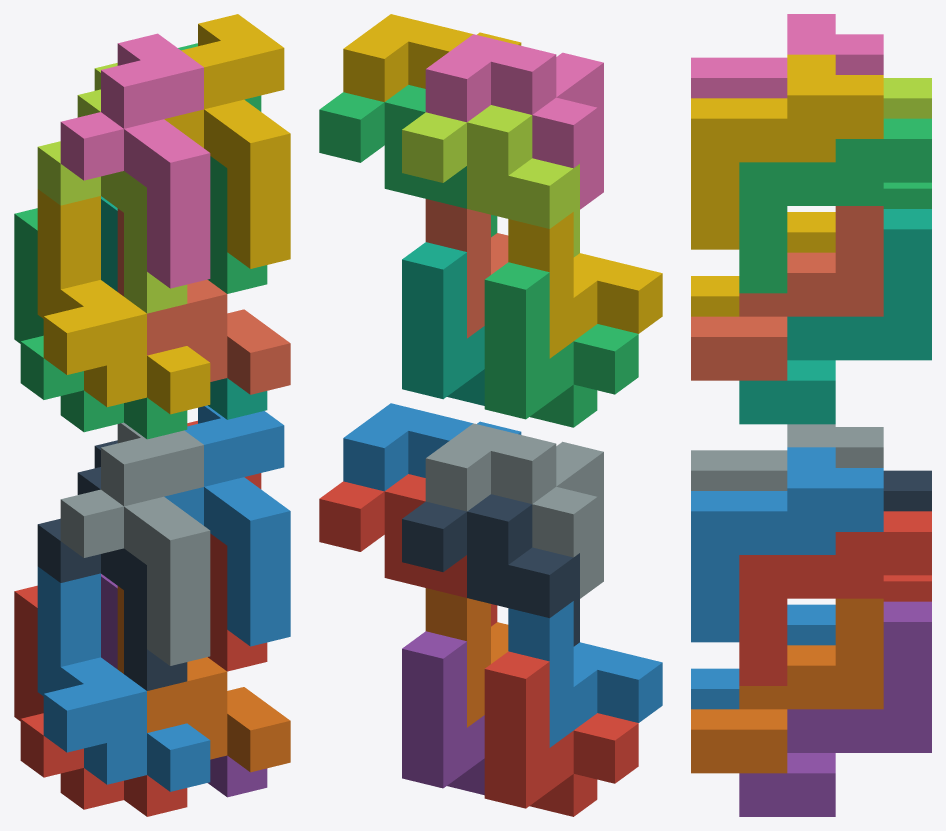
The model's file is tiling.obj.
The picture shows the model from 3 angles, left to right: view 1: azimuth 30°, elevation 25°; view 2: azimuth 150°, elevation 25°; view 3: azimuth 270°, elevation 25°; orthographic projection. The views are drawn at different scales.
Parts seen in each view (by area): view 1: copy_2_domain_4, copy_2_domain_2, copy_1_domain_2, copy_1_domain_4, copy_2_domain_8, copy_2_domain_6, copy_1_domain_8, copy_1_domain_6, copy_1_domain_1, copy_1_domain_3, copy_2_domain_1, copy_2_domain_3 (+4 smaller); view 2: copy_1_domain_1, copy_1_domain_3, copy_2_domain_2, copy_2_domain_4, copy_2_domain_1, copy_2_domain_3, copy_1_domain_2, copy_1_domain_4, copy_1_domain_5, copy_1_domain_7, copy_2_domain_5, copy_2_domain_7 (+4 smaller); view 3: copy_2_domain_8, copy_2_domain_6, copy_1_domain_7, copy_1_domain_5, copy_1_domain_6, copy_1_domain_8, copy_2_domain_7, copy_2_domain_5, copy_2_domain_4, copy_2_domain_2, copy_1_domain_2, copy_1_domain_4 (+4 smaller).
Part boxes in pixels (box(x1,y1,x2,y2)): copy_2_domain_4: box(60, 33, 210, 288); copy_2_domain_2: box(60, 422, 210, 665); copy_1_domain_2: box(37, 566, 210, 791); copy_1_domain_4: box(37, 189, 210, 414); copy_2_domain_8: box(164, 14, 290, 268); copy_2_domain_6: box(164, 405, 290, 646); copy_1_domain_8: box(117, 208, 290, 394); copy_1_domain_6: box(117, 586, 290, 772); copy_1_domain_1: box(14, 585, 187, 816); copy_1_domain_3: box(14, 208, 187, 439); copy_2_domain_1: box(37, 440, 187, 690); copy_2_domain_3: box(37, 63, 187, 313); copy_1_domain_1: box(484, 651, 638, 816); copy_1_domain_3: box(484, 262, 638, 427); copy_2_domain_2: box(425, 423, 603, 598); copy_2_domain_4: box(425, 34, 603, 209); copy_2_domain_1: box(402, 494, 579, 646); copy_2_domain_3: box(402, 105, 579, 257); copy_1_domain_2: box(508, 601, 662, 747); copy_1_domain_4: box(508, 212, 662, 358); copy_1_domain_5: box(402, 631, 484, 795); copy_1_domain_7: box(402, 242, 484, 405); copy_2_domain_5: box(319, 474, 497, 626); copy_2_domain_7: box(319, 85, 497, 237); copy_2_domain_8: box(691, 54, 883, 249); copy_2_domain_6: box(691, 447, 883, 642); copy_1_domain_7: box(739, 209, 931, 424); copy_1_domain_5: box(739, 601, 931, 816); copy_1_domain_6: box(691, 598, 883, 773); copy_1_domain_8: box(691, 206, 883, 380); copy_2_domain_7: box(739, 118, 931, 293); copy_2_domain_5: box(739, 511, 931, 685); copy_2_domain_4: box(691, 14, 883, 98); copy_2_domain_2: box(691, 424, 883, 490); copy_1_domain_2: box(691, 604, 835, 709); copy_1_domain_4: box(691, 212, 835, 316).
Bounding box in the file's own units: 6 × 17 × 5.
